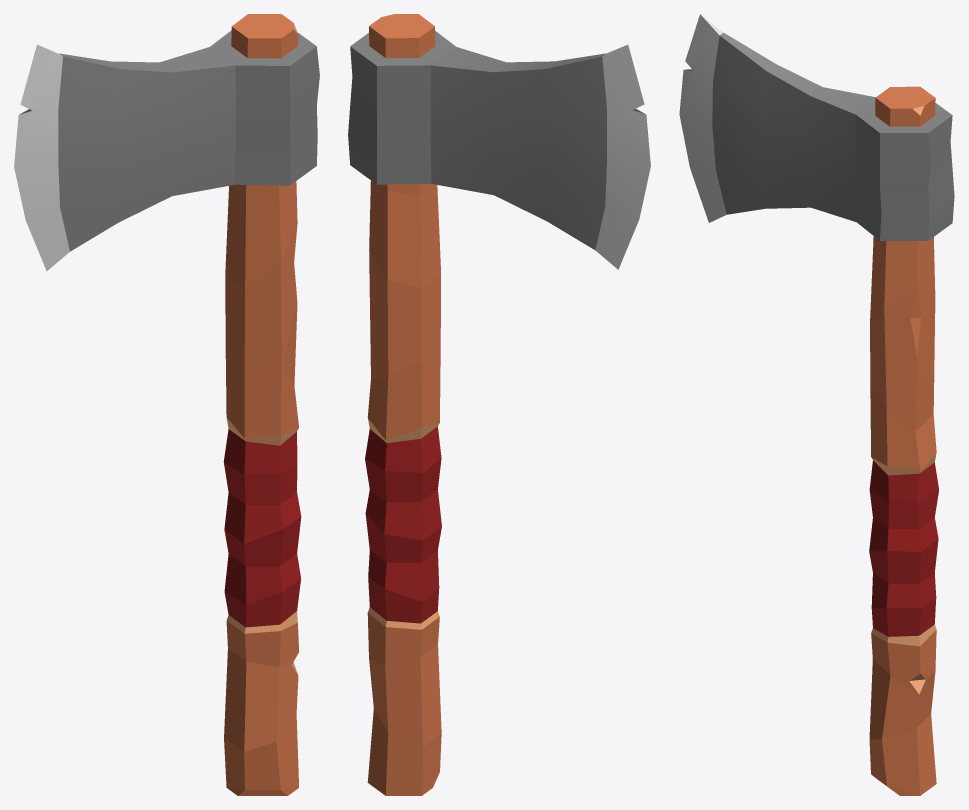
The model's file is axe.glb.
3 renders of one model, left to right at view 1: azimuth 30°, elevation 25°; view 2: azimuth 150°, elevation 25°; view 3: azimuth 330°, elevation 25°, orthographic. The views are drawn at different scales.
Parts seen in each view (by area): view 1: Woodcutter_Axe; view 2: Woodcutter_Axe; view 3: Woodcutter_Axe.
Boxes of the visible parts, left/top/right/bottom form: Woodcutter_Axe: left=14, top=14, right=319, bottom=795; Woodcutter_Axe: left=348, top=14, right=650, bottom=795; Woodcutter_Axe: left=679, top=14, right=954, bottom=795.
Bounding box in the file's own units: 0.6543 × 1.71 × 0.2083.
Materials: 1 (1 with a texture image).
